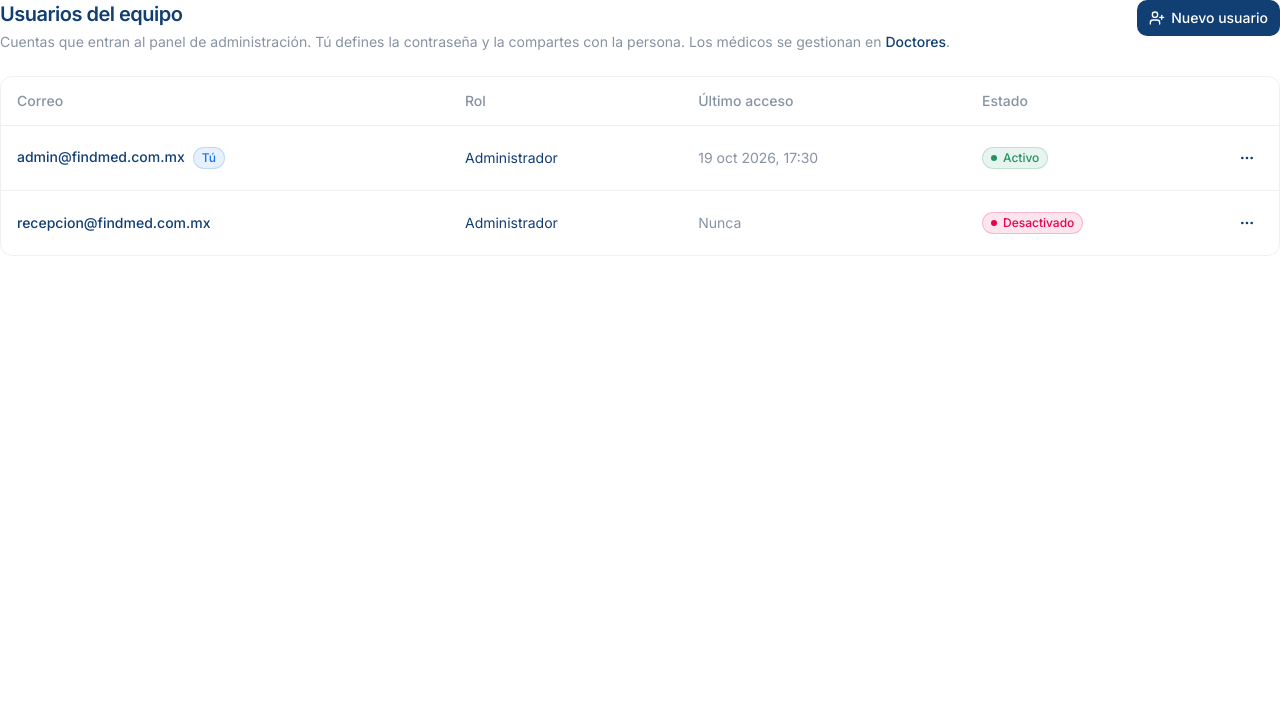
Test: Configuración → Usuarios › reactivar el acceso de otra cuenta pide confirmación y llama a set_active
This screenshot has width=1280, height=720.
Later steps or results of the test are not shown.
Step 1. Press Enter in the button named "Acciones para recepcion@findmed.com.mx", box [1231,206,1263,238]
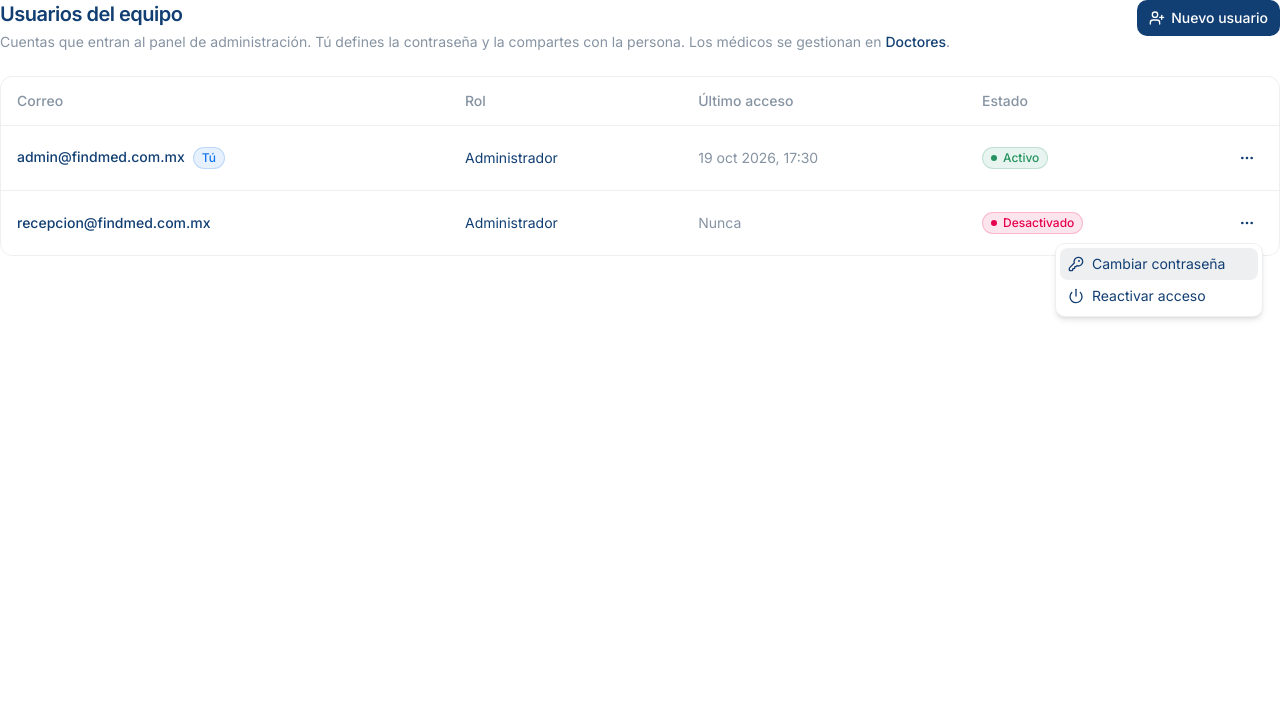
Step 2. Click the menu item "Reactivar acceso" → {"x": 1137, "y": 296}, box [1068,287,1206,304]
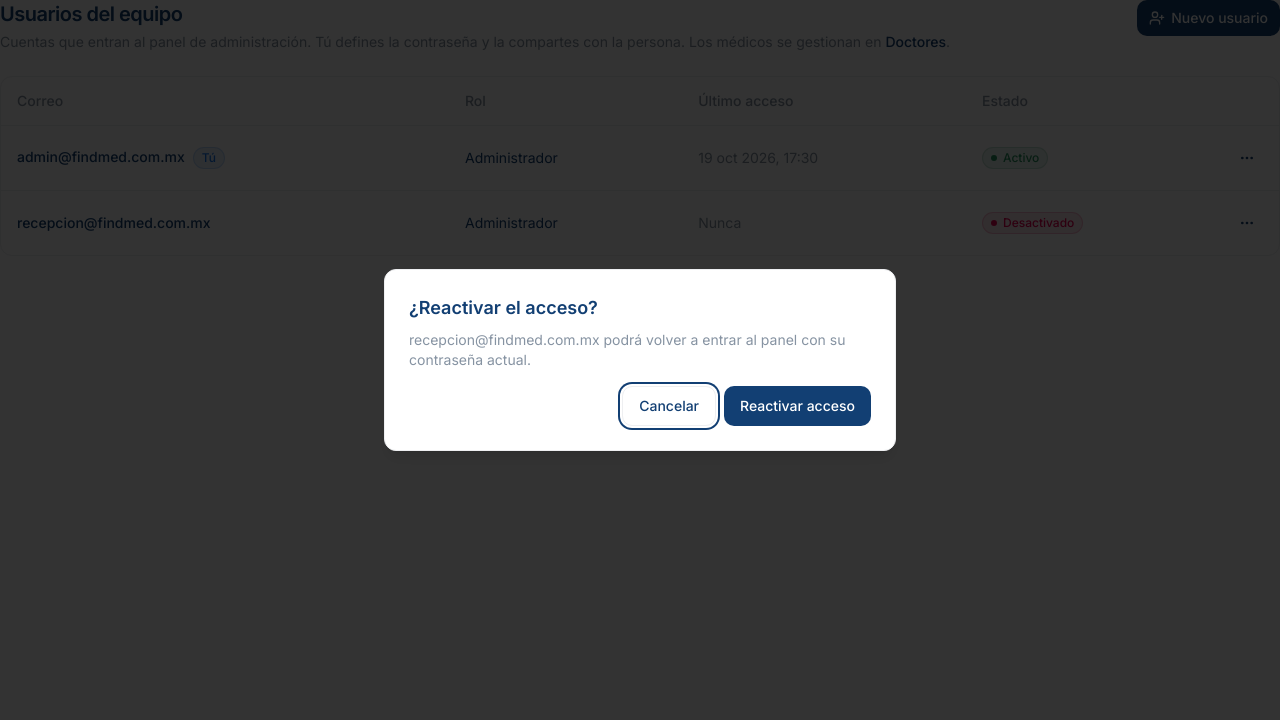
Now the heading "¿Reactivar el acceso?" is shown, box [409,297,598,318]
